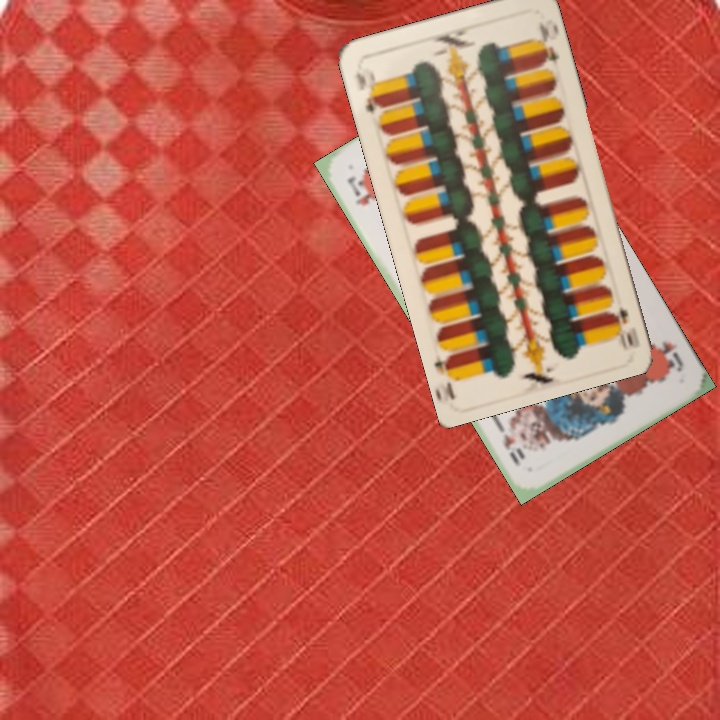E10: (351, 63, 386, 116), (609, 304, 636, 352)
HO: (649, 336, 686, 376), (343, 172, 376, 208)
